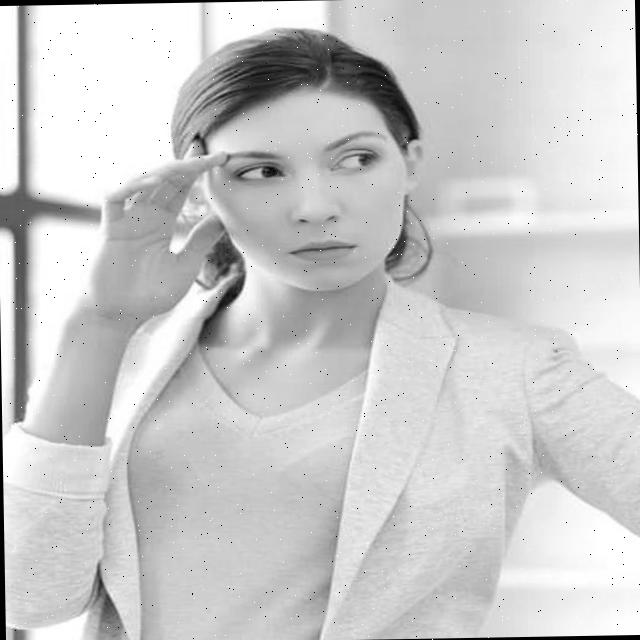Sadness: (216, 104, 398, 293)
